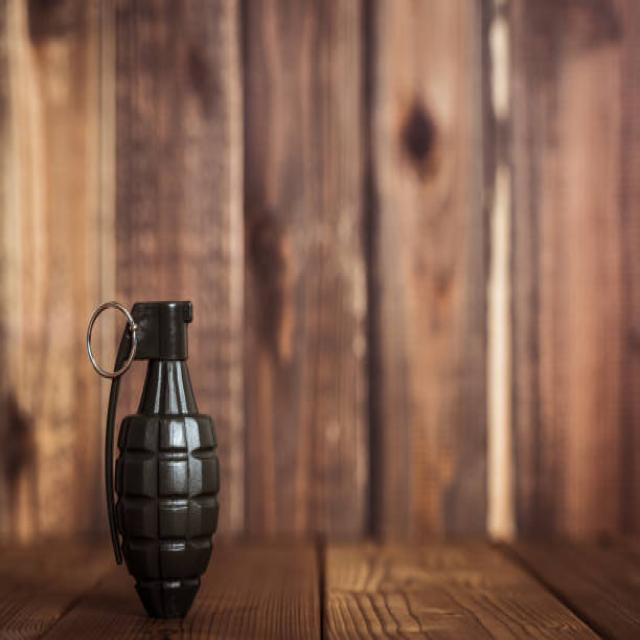grenade: (82, 296, 225, 632)
